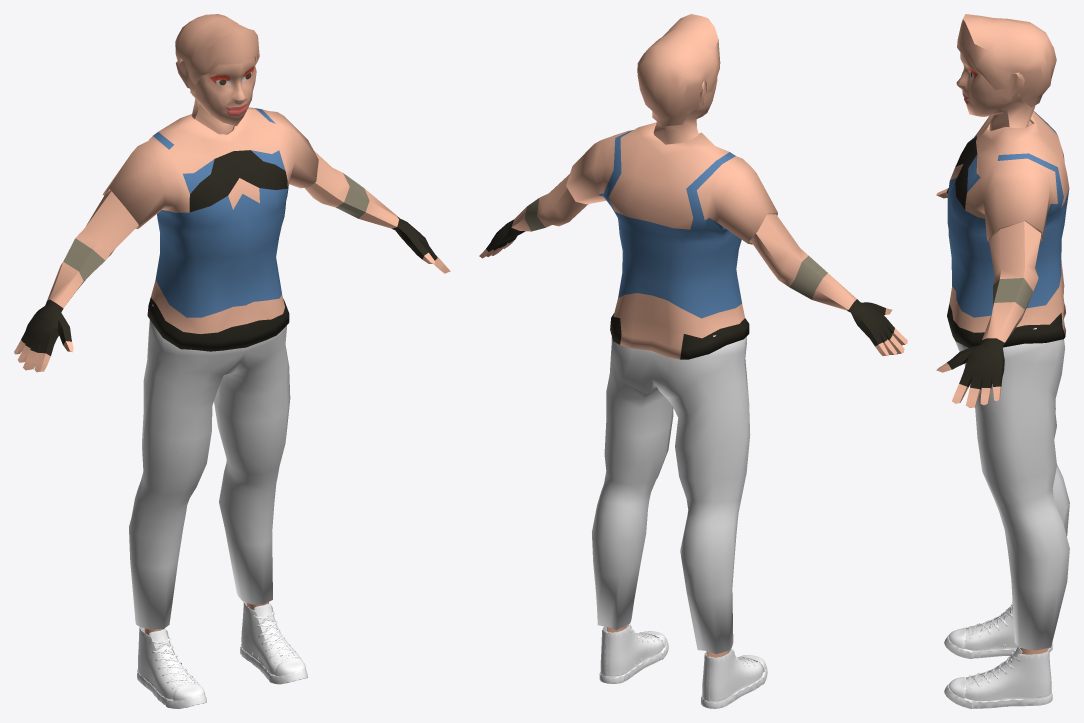
Rendered from fotografc.fbx.
The picture shows the model from 3 angles, left to right: view 1: azimuth 30°, elevation 25°; view 2: azimuth 150°, elevation 25°; view 3: azimuth 270°, elevation 25°; orthographic projection.
Parts seen in each view (by area): view 1: Lu_Bikini_002.004, Cylinder, Lu_Bikini_002.001, Sneakers, Lu_Bikini_002.002; view 2: Cylinder, Lu_Bikini_002.004, Lu_Bikini_002.001, Lu_Bikini_002.002, Sneakers; view 3: Lu_Bikini_002.004, Cylinder, Lu_Bikini_002.001, Sneakers, Lu_Bikini_002.002.
Part boxes in pixels (x1=…): Lu_Bikini_002.004: x1=102, y1=107, x2=318, y2=351; Cylinder: x1=129, y1=304, x2=290, y2=629; Lu_Bikini_002.001: x1=14, y1=57, x2=450, y2=634; Sneakers: x1=137, y1=602, x2=307, y2=708; Lu_Bikini_002.002: x1=175, y1=14, x2=259, y2=93; Cylinder: x1=592, y1=335, x2=750, y2=654; Lu_Bikini_002.004: x1=566, y1=122, x2=777, y2=359; Lu_Bikini_002.001: x1=479, y1=77, x2=907, y2=657; Lu_Bikini_002.002: x1=637, y1=14, x2=720, y2=126; Sneakers: x1=599, y1=624, x2=767, y2=708; Lu_Bikini_002.004: x1=947, y1=111, x2=1069, y2=347; Cylinder: x1=955, y1=319, x2=1069, y2=650; Lu_Bikini_002.001: x1=936, y1=52, x2=1048, y2=654; Sneakers: x1=944, y1=602, x2=1052, y2=708; Lu_Bikini_002.002: x1=957, y1=14, x2=1056, y2=107.
Size of the model in its own units: 127 by 190 by 35.11.
